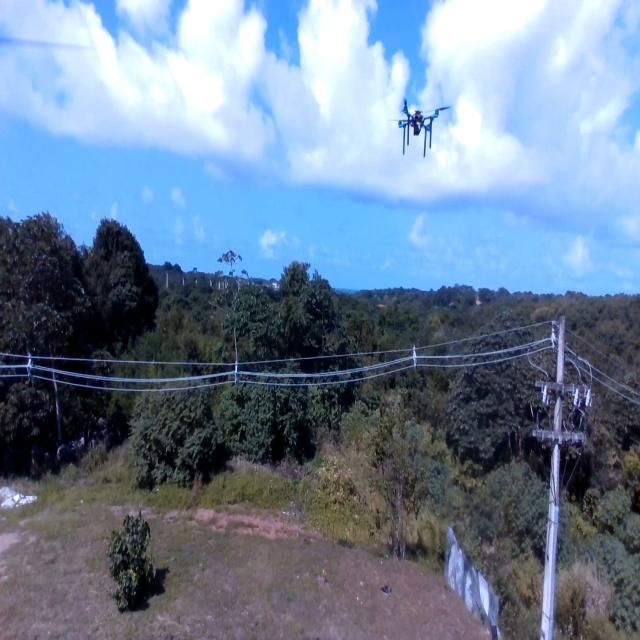-uav-: (383, 87, 455, 168)
